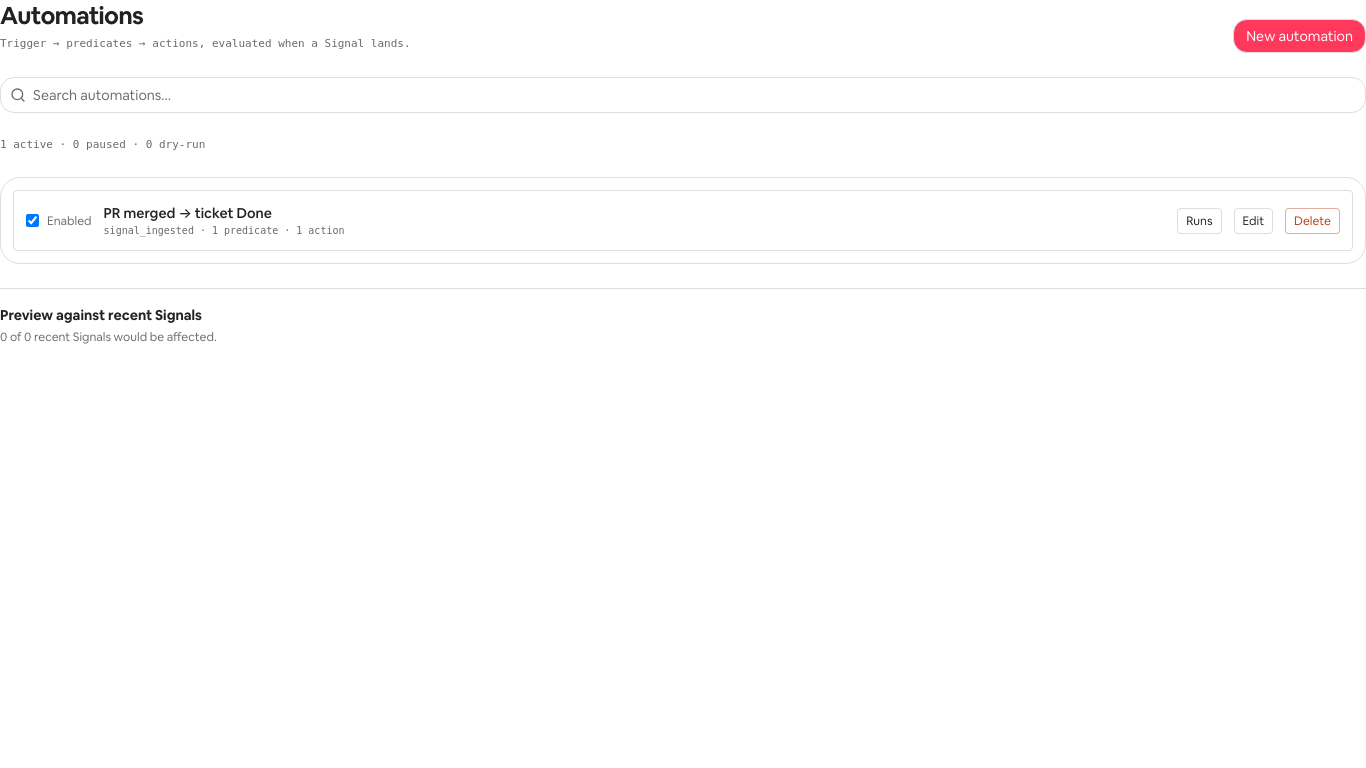
Test: AutomationsPanel transition_ticket warning › renders the deferred-capability warning when the action is selected in the builder
What coordinates should you click on to do the following:
click the button "Edit"
I would click on:
 (1253, 220)
Its box is [1234, 208, 1273, 234].
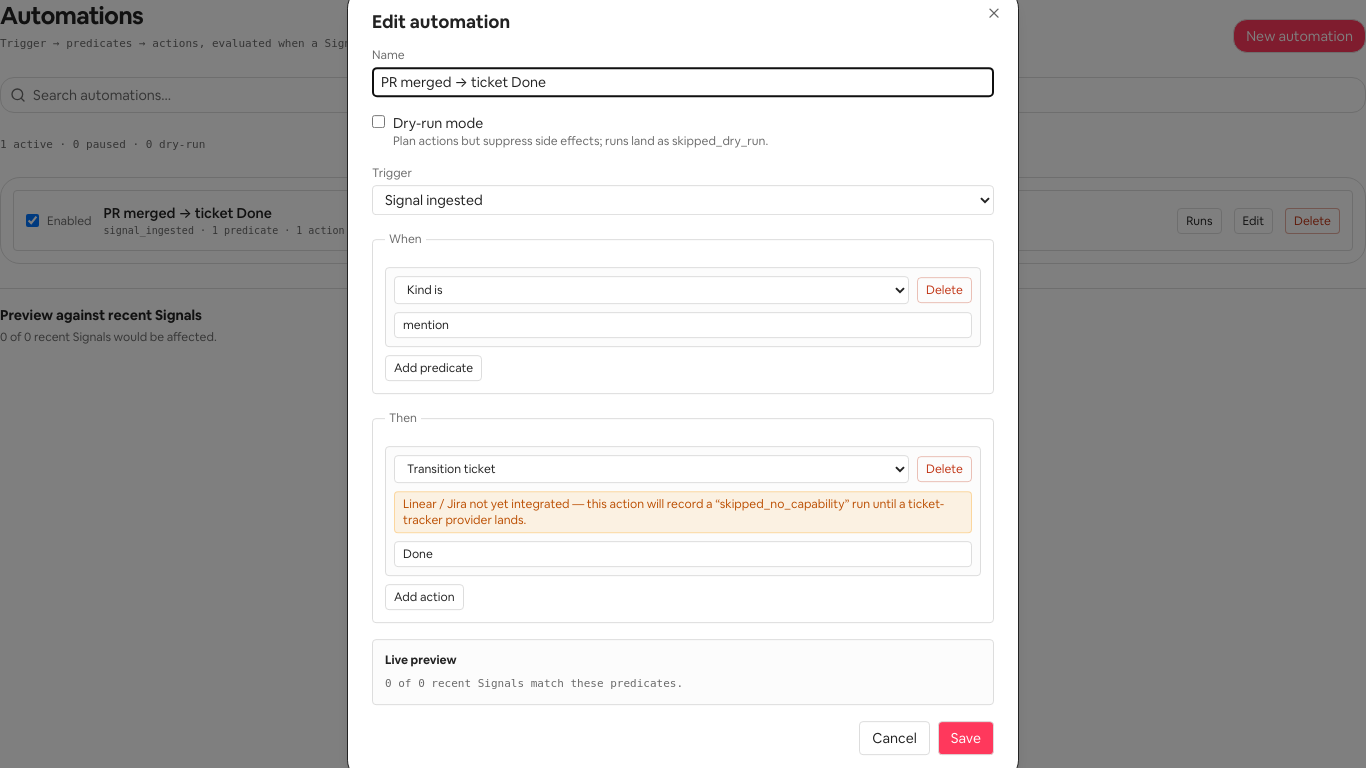
Expected: the text "Linear / Jira not yet integrated" is shown, [403, 496, 944, 528]
Expected: the field named "Transition to status" is shown, [394, 541, 972, 567]
